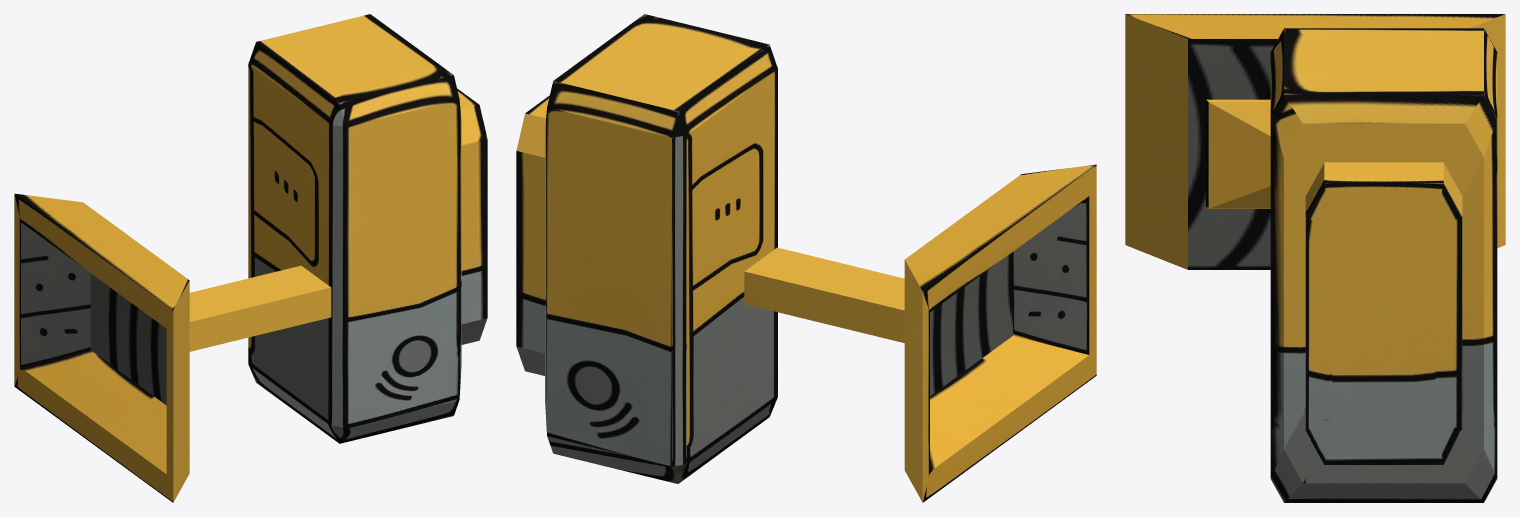
File: vacuum_cleaner.glb
3 views of the same model, side by side, from view 1: azimuth 30°, elevation 25°; view 2: azimuth 150°, elevation 25°; view 3: azimuth 270°, elevation 25° (orthographic). The views are drawn at different scales.
Parts seen in each view (by area): view 1: Cube; view 2: Cube; view 3: Cube.
Part boxes in pixels (<box>): Cube: <box>14,14,487,502</box>; Cube: <box>516,14,1096,502</box>; Cube: <box>1125,14,1505,502</box>.
Size of the model in its own units: 3.16 by 2.64 by 2.23.
Materials: 1 (1 with a texture image).
